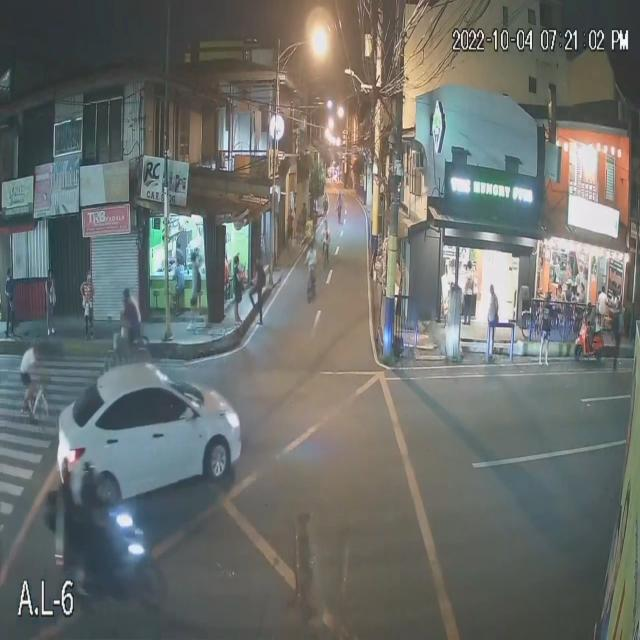Full-Faced: (74, 457, 99, 501), (60, 457, 76, 492), (585, 300, 594, 318)
